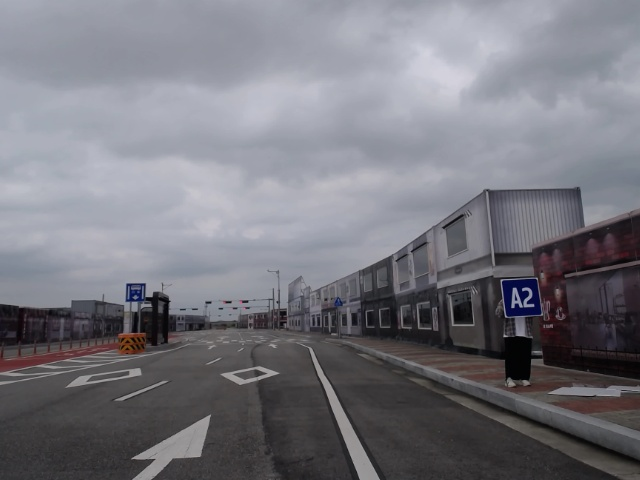delivery_a2: (501, 277, 543, 318)
